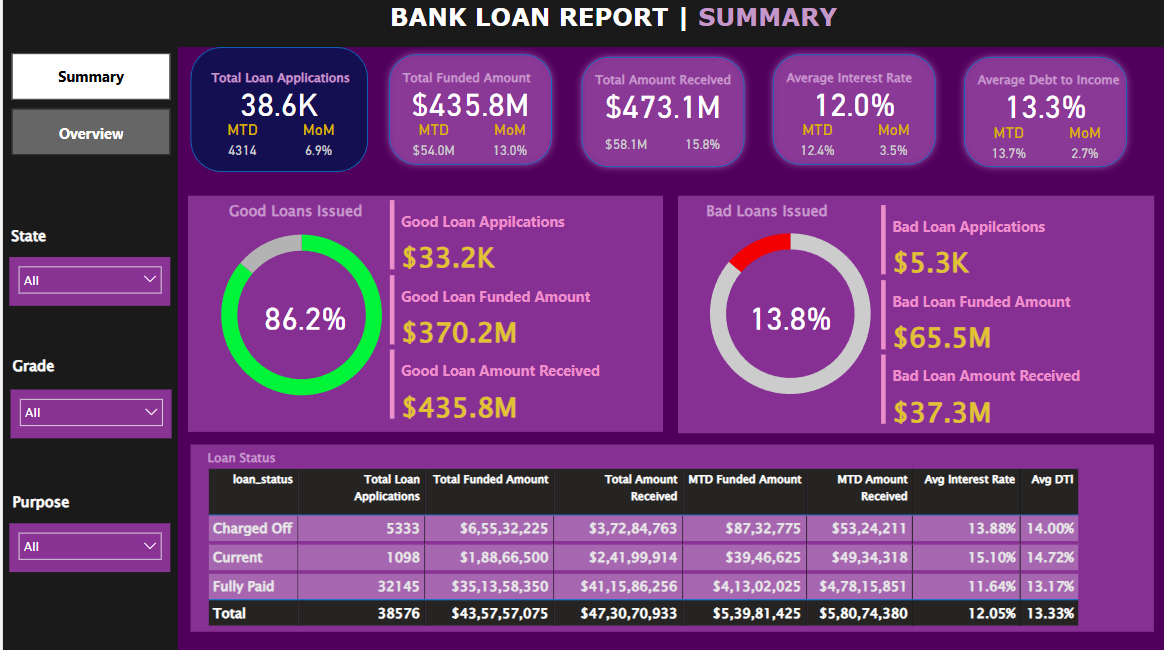

Layout of this report page (visuals, bound fields, positions):
{"tool":"powerbi","page":{"name":"Summary","canvas":[1280,720],"ordinal":0},"visuals":[{"type":"shape","box":[0,54.9,192.1,665.5],"z":0},{"type":"shape","box":[205.8,491.3,1058,205.8],"z":1000},{"type":"shape","box":[203.1,218.2,521.4,259.3],"z":2000},{"type":"shape","box":[205.8,54.9,194.9,137.2],"z":3000,"group":"g5"},{"type":"shape","box":[416.1,54.9,194.9,137.2],"z":3000,"group":"g1"},{"type":"shape","box":[836.7,54.9,194.9,137.2],"z":3000,"group":"g3"},{"type":"shape","box":[626.4,57.6,194.9,137.2],"z":3000,"group":"g2"},{"type":"shape","box":[1047,57.6,194.9,137.2],"z":3000,"group":"g4"},{"type":"donutChart","fields":{"Category":["bank_loan_data.Good vs Bad Loan"],"Y":["bank_loan_data.Total Loan Applications"]},"box":[212.7,229.2,230.5,240.1],"z":3000},{"type":"shape","box":[0,0,1280.3,55],"z":4000},{"type":"card","fields":{"Values":["bank_loan_data.Total Loan Applications"]},"box":[212.7,94.7,181.1,41.2],"z":4000,"group":"g5"},{"type":"card","fields":{"Values":["bank_loan_data.Total Funded Amount"]},"box":[423,94.7,181.1,41.2],"z":4000,"group":"g1"},{"type":"card","fields":{"Values":["bank_loan_data.Avg Interest Rate"]},"box":[843.6,94.7,181.1,41.2],"z":4000,"group":"g3"},{"type":"card","fields":{"Values":["bank_loan_data.Total Amount Received"]},"box":[633.3,97.4,181.1,41.2],"z":4000,"group":"g2"},{"type":"card","fields":{"Values":["bank_loan_data.Avg DTI"]},"box":[1053.9,97.4,181.1,41.2],"z":4000,"group":"g4"},{"type":"textbox","box":[419.9,0,559.9,54.9],"z":5000},{"type":"textbox","box":[219.5,74.1,181.1,39.8],"z":5000,"group":"g5"},{"type":"textbox","box":[429.8,74.1,181.1,39.8],"z":5000,"group":"g1"},{"type":"textbox","box":[850.4,74.1,181.1,39.8],"z":5000,"group":"g3"},{"type":"textbox","box":[640.1,76.8,181.1,39.8],"z":5000,"group":"g2"},{"type":"textbox","box":[1060.7,76.8,181.1,39.8],"z":5000,"group":"g4"},{"type":"card","title":"MTD","fields":{"Values":["bank_loan_data.MTD Loan Applications"]},"box":[219.5,135.9,86.4,49.4],"z":6000,"group":"g5"},{"type":"card","title":"MTD","fields":{"Values":["bank_loan_data.MTD Funded Amount"]},"box":[429.8,135.9,86.4,49.4],"z":6000,"group":"g1"},{"type":"card","title":"MTD","fields":{"Values":["bank_loan_data.MTD Average Interest Rate"]},"box":[850.4,135.9,86.4,49.4],"z":6000,"group":"g3"},{"type":"card","title":"MTD","fields":{"Values":["bank_loan_data.MTD Amount Received"]},"box":[640.1,138.6,86.4,49.4],"z":6000,"group":"g2"},{"type":"card","title":"MTD","fields":{"Values":["bank_loan_data.MTD Average DTI"]},"box":[1060.7,138.6,86.4,49.4],"z":6000,"group":"g4"},{"type":"textbox","box":[219.6,491.3,181.1,39.8],"z":6000},{"type":"card","title":"MoM","fields":{"Values":["bank_loan_data.MoM Loan Application"]},"box":[303.2,135.9,86.4,49.4],"z":7000,"group":"g5"},{"type":"card","title":"MoM","fields":{"Values":["bank_loan_data.MoM Funded Amount"]},"box":[513.5,135.9,86.4,49.4],"z":7000,"group":"g1"},{"type":"card","title":"MoM","fields":{"Values":["bank_loan_data.MoM Average Interest Rate"]},"box":[934.1,135.9,86.4,49.4],"z":7000,"group":"g3"},{"type":"card","title":"MoM","fields":{"Values":["bank_loan_data.MoM Amount Received"]},"box":[723.8,138.6,86.4,49.4],"z":7000,"group":"g2"},{"type":"card","title":"MoM","fields":{"Values":["bank_loan_data.MoM Average DTI"]},"box":[1144.4,138.6,86.4,49.4],"z":7000,"group":"g4"},{"type":"textbox","box":[238.8,218.2,181.1,39.8],"z":7000},{"type":"group","id":"g1","title":"Group 1","box":[416.1,54.9,194.9,137.2],"z":8000},{"type":"group","id":"g2","title":"Group 1","box":[626.4,57.6,194.9,137.2],"z":9000},{"type":"card","fields":{"Values":["bank_loan_data.Good Loan percentage"]},"box":[241.5,329.3,181.1,41.2],"z":10000},{"type":"group","id":"g3","title":"Group 1","box":[836.7,54.9,194.9,137.2],"z":11000},{"type":"group","id":"g4","title":"Group 1","box":[1047,57.6,194.9,137.2],"z":12000},{"type":"shape","box":[741,218.2,522.8,260.7],"z":13000},{"type":"group","id":"g5","title":"Group 1","box":[205.8,54.9,194.9,137.2],"z":14000},{"type":"cardVisual","fields":{"Data":["bank_loan_data.Good Loan Appilcations","bank_loan_data.Good Loan Funded Amount","bank_loan_data.Good Loan Amount Received"]},"box":[419.9,218.2,290.9,251.1],"z":15000},{"type":"donutChart","fields":{"Category":["bank_loan_data.Good vs Bad Loan"],"Y":["bank_loan_data.Total Loan Applications"]},"box":[749.2,227.8,230.5,240.1],"z":16000},{"type":"textbox","box":[767.1,218.2,181.1,39.8],"z":17000},{"type":"card","fields":{"Values":["bank_loan_data.Bad Loan percentage"]},"box":[773.9,329.3,181.1,41.2],"z":18000},{"type":"cardVisual","fields":{"Data":["bank_loan_data.Bad Loan Appilcations","bank_loan_data.Bad Loan Funded Amount","bank_loan_data.Bad Loan Amount Received"]},"box":[959.2,223.7,290.9,251.1],"z":19000},{"type":"tableEx","fields":{"Values":["bank_loan_data.loan_status","bank_loan_data.Total Loan Applications","bank_loan_data.Total Funded Amount","bank_loan_data.Total Amount Received","bank_loan_data.MTD Funded Amount","bank_loan_data.MTD Amount Received","bank_loan_data.Avg Interest Rate","bank_loan_data.Avg DTI"]},"box":[219.6,513.2,1022.3,183.9],"z":20000},{"type":"slicer","fields":{"Values":["bank_loan_data.address_state"]},"box":[6.9,285,177,53.5],"z":21000},{"type":"textbox","box":[4.1,245.6,181.1,39.8],"z":22000},{"type":"slicer","fields":{"Values":["bank_loan_data.grade"]},"box":[8.2,431.3,177,53.5],"z":23000},{"type":"slicer","fields":{"Values":["bank_loan_data.purpose"]},"box":[6.9,577.7,177,53.5],"z":24000},{"type":"textbox","box":[5.5,537.9,181.1,39.8],"z":25000},{"type":"textbox","box":[5.5,388.3,181.1,39.8],"z":26000},{"type":"pageNavigator","box":[9.6,61.7,174.3,112.5],"z":26001}]}

Visuals, with their boxes in screenshot pixels (x1, y1, x2, y2), scaled from the page's 1280x720 canvas onto the 1164x650 screenshot:
shape: rect(0, 50, 175, 649)
shape: rect(187, 444, 1149, 629)
shape: rect(185, 197, 659, 431)
shape: rect(187, 50, 364, 173)
shape: rect(378, 50, 556, 173)
shape: rect(761, 50, 938, 173)
shape: rect(570, 52, 747, 176)
shape: rect(952, 52, 1129, 176)
donutChart - bank_loan_data.Good vs Bad Loan x bank_loan_data.Total Loan Applications: rect(193, 207, 403, 424)
shape: rect(0, 0, 1163, 50)
card - bank_loan_data.Total Loan Applications: rect(193, 85, 358, 123)
card - bank_loan_data.Total Funded Amount: rect(385, 85, 549, 123)
card - bank_loan_data.Avg Interest Rate: rect(767, 85, 932, 123)
card - bank_loan_data.Total Amount Received: rect(576, 88, 741, 125)
card - bank_loan_data.Avg DTI: rect(958, 88, 1123, 125)
textbox: rect(382, 0, 891, 50)
textbox: rect(200, 67, 364, 103)
textbox: rect(391, 67, 556, 103)
textbox: rect(773, 67, 938, 103)
textbox: rect(582, 69, 747, 105)
textbox: rect(965, 69, 1129, 105)
"MTD" card: rect(200, 123, 278, 167)
"MTD" card: rect(391, 123, 469, 167)
"MTD" card: rect(773, 123, 852, 167)
"MTD" card: rect(582, 125, 661, 170)
"MTD" card: rect(965, 125, 1043, 170)
textbox: rect(200, 444, 364, 479)
"MoM" card: rect(276, 123, 354, 167)
"MoM" card: rect(467, 123, 546, 167)
"MoM" card: rect(849, 123, 928, 167)
"MoM" card: rect(658, 125, 737, 170)
"MoM" card: rect(1041, 125, 1119, 170)
textbox: rect(217, 197, 382, 233)
"Group 1" group: rect(378, 50, 556, 173)
"Group 1" group: rect(570, 52, 747, 176)
card - bank_loan_data.Good Loan percentage: rect(220, 297, 384, 334)
"Group 1" group: rect(761, 50, 938, 173)
"Group 1" group: rect(952, 52, 1129, 176)
shape: rect(674, 197, 1149, 432)
"Group 1" group: rect(187, 50, 364, 173)
cardVisual - bank_loan_data.Good Loan Appilcations x bank_loan_data.Good Loan Funded Amount: rect(382, 197, 646, 424)
donutChart - bank_loan_data.Good vs Bad Loan x bank_loan_data.Total Loan Applications: rect(681, 206, 891, 422)
textbox: rect(698, 197, 862, 233)
card - bank_loan_data.Bad Loan percentage: rect(704, 297, 868, 334)
cardVisual - bank_loan_data.Bad Loan Appilcations x bank_loan_data.Bad Loan Funded Amount: rect(872, 202, 1137, 429)
tableEx - bank_loan_data.loan_status x bank_loan_data.Total Loan Applications: rect(200, 463, 1129, 629)
slicer - bank_loan_data.address_state: rect(6, 257, 167, 306)
textbox: rect(4, 222, 168, 258)
slicer - bank_loan_data.grade: rect(7, 389, 168, 438)
slicer - bank_loan_data.purpose: rect(6, 522, 167, 570)
textbox: rect(5, 486, 170, 522)
textbox: rect(5, 351, 170, 386)
pageNavigator: rect(9, 56, 167, 157)
